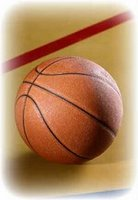basketball: (15, 55, 123, 165)
